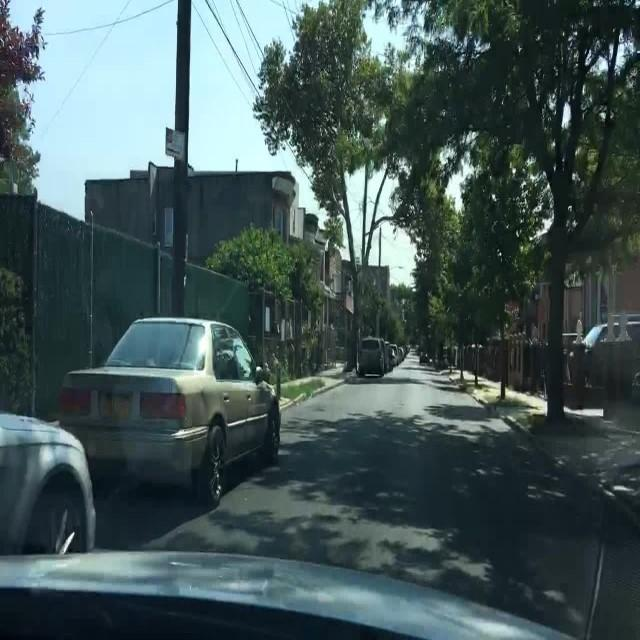normal: (54, 319, 281, 511), (0, 409, 96, 554), (356, 338, 394, 378)
